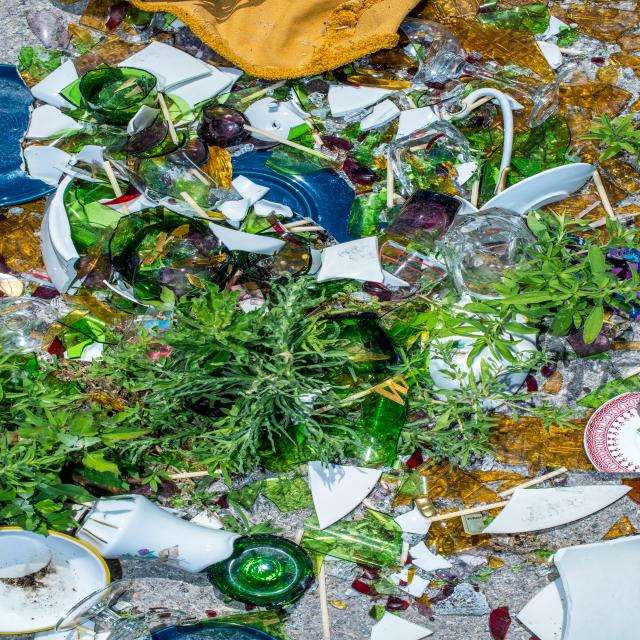electronic: (476, 480, 640, 534), (209, 536, 315, 598), (300, 462, 385, 530), (59, 64, 161, 118), (311, 231, 389, 283)
